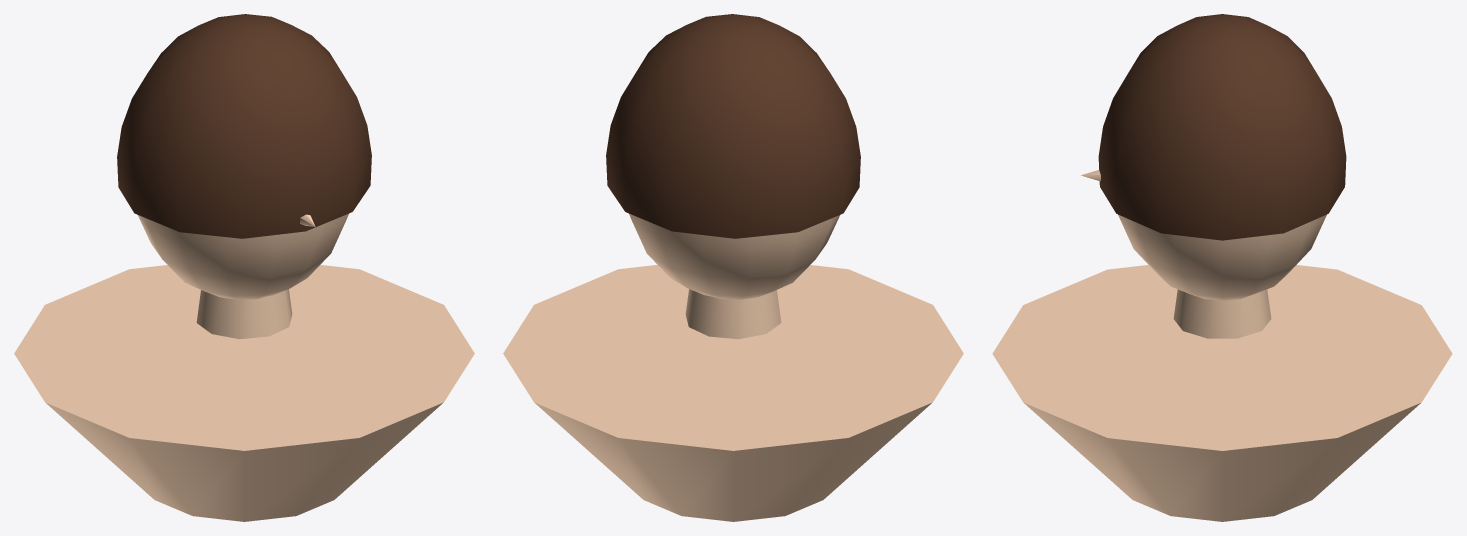
The model's file is portrait01m_003.glb.
3 renders of one model, left to right at view 1: azimuth 30°, elevation 25°; view 2: azimuth 150°, elevation 25°; view 3: azimuth 270°, elevation 25°, orthographic.
Size of the model in its own units: 1.98 by 2.15 by 1.98.
